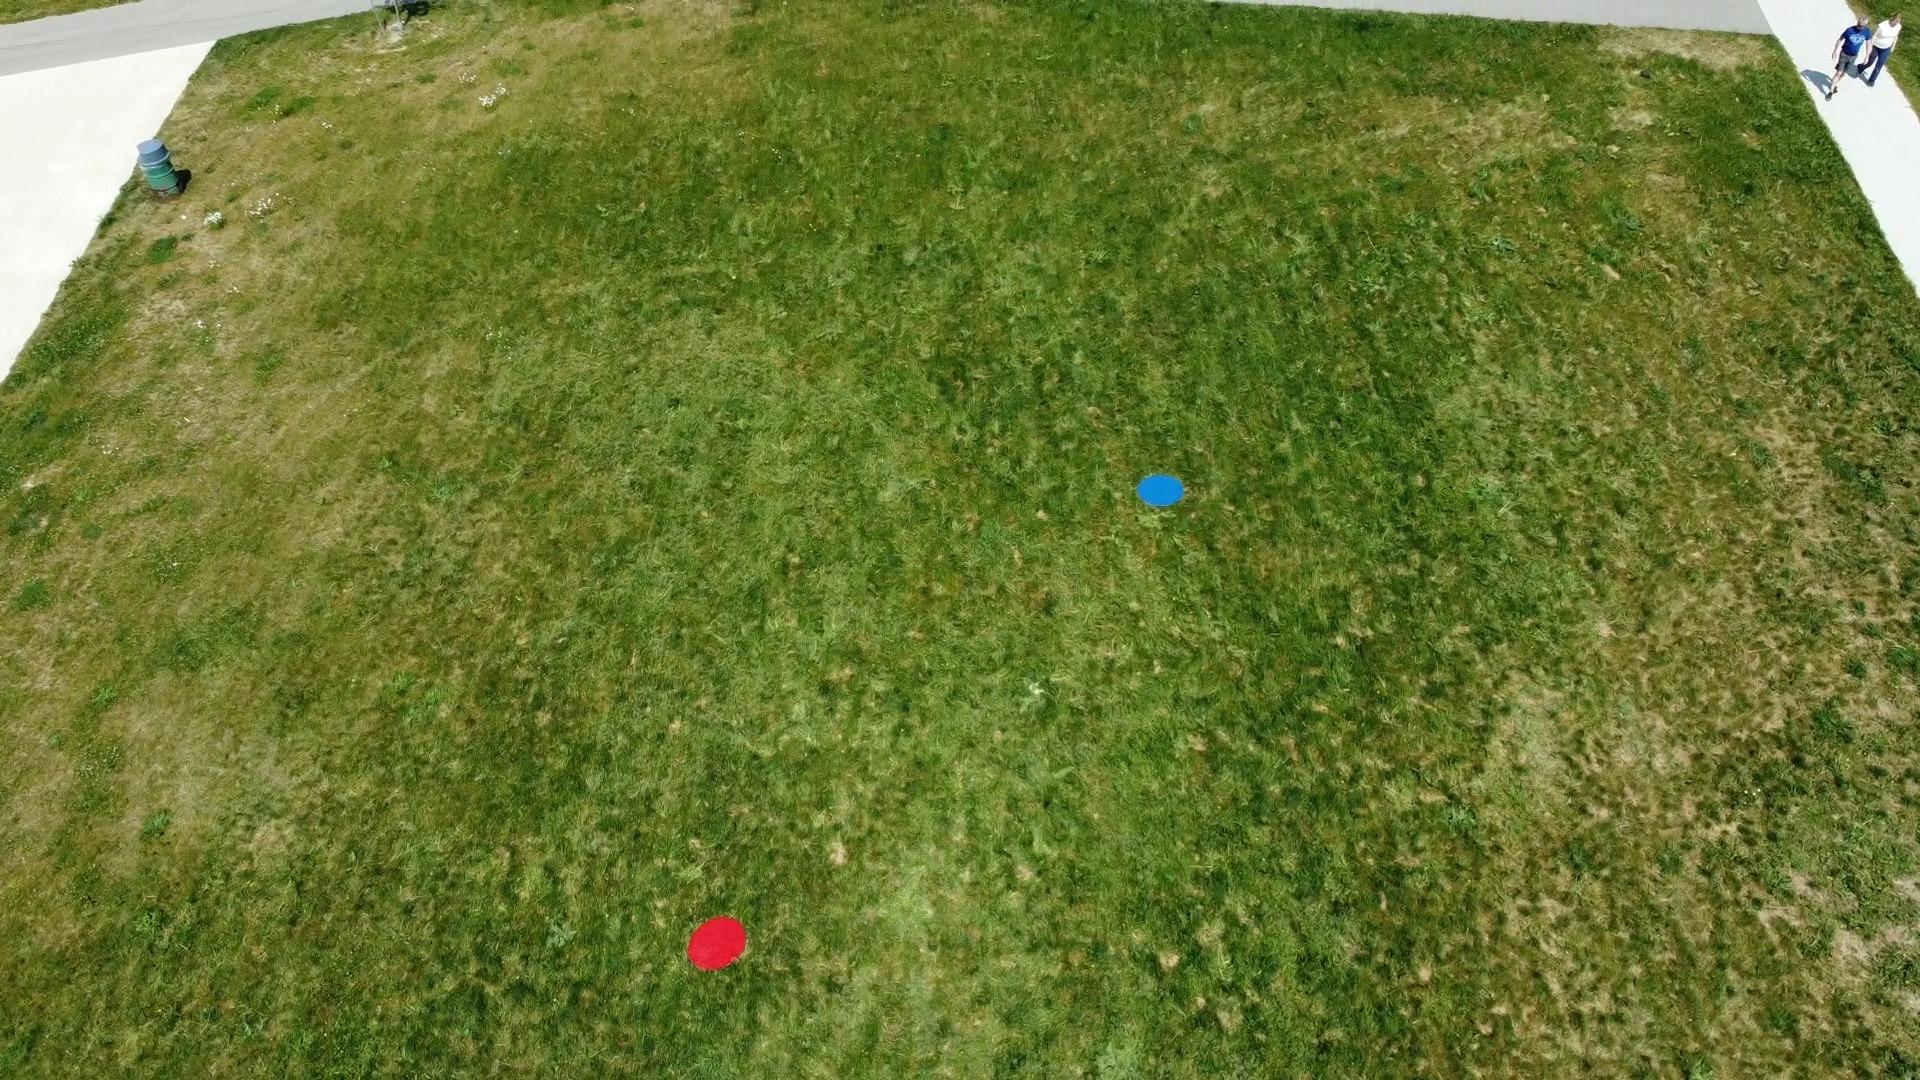Blue: (1135, 473, 1185, 508)
Red: (684, 915, 750, 973)
